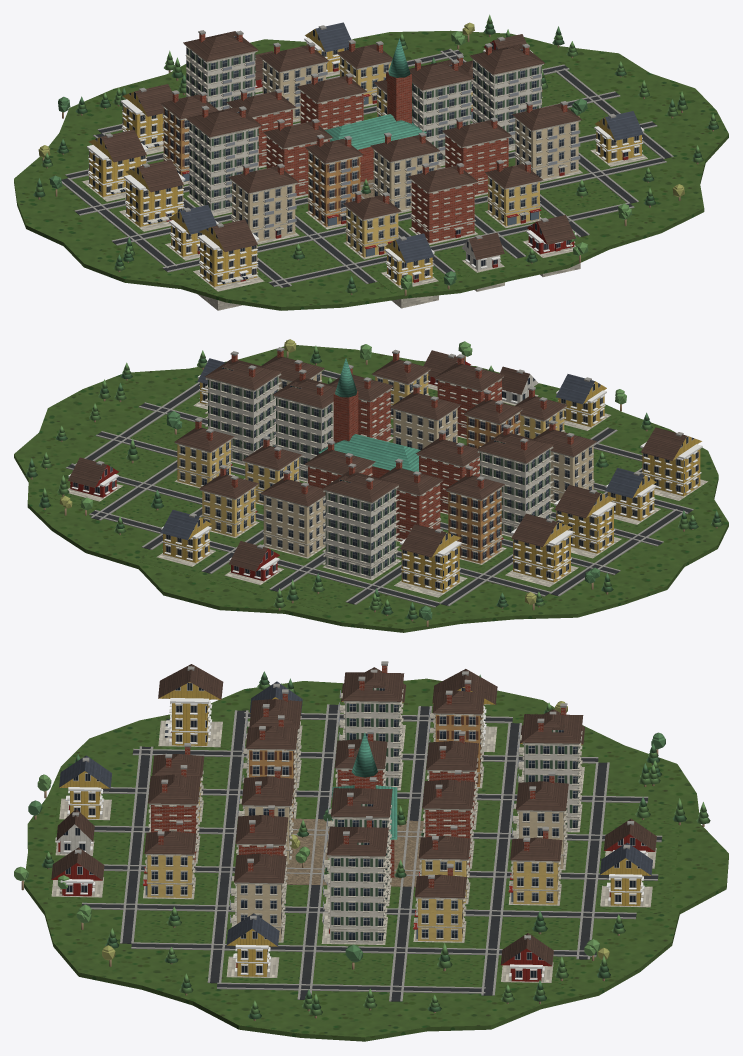
Rendered from city_nordic_capital.gltf.
3 renders of one model, top to bottom at view 1: azimuth 30°, elevation 25°; view 2: azimuth 150°, elevation 25°; view 3: azimuth 270°, elevation 25°, orthographic. The views are drawn at different scales.
Parts seen in each view (by area): view 1: city_nordic_capital; view 2: city_nordic_capital; view 3: city_nordic_capital.
Part boxes in pixels (<box>): city_nordic_capital: <box>14,14,728,310</box>; city_nordic_capital: <box>14,339,728,632</box>; city_nordic_capital: <box>14,661,728,1041</box>.
Size of the model in its own units: 5.75 by 1.21 by 4.84.
23 materials, 16 textured.
